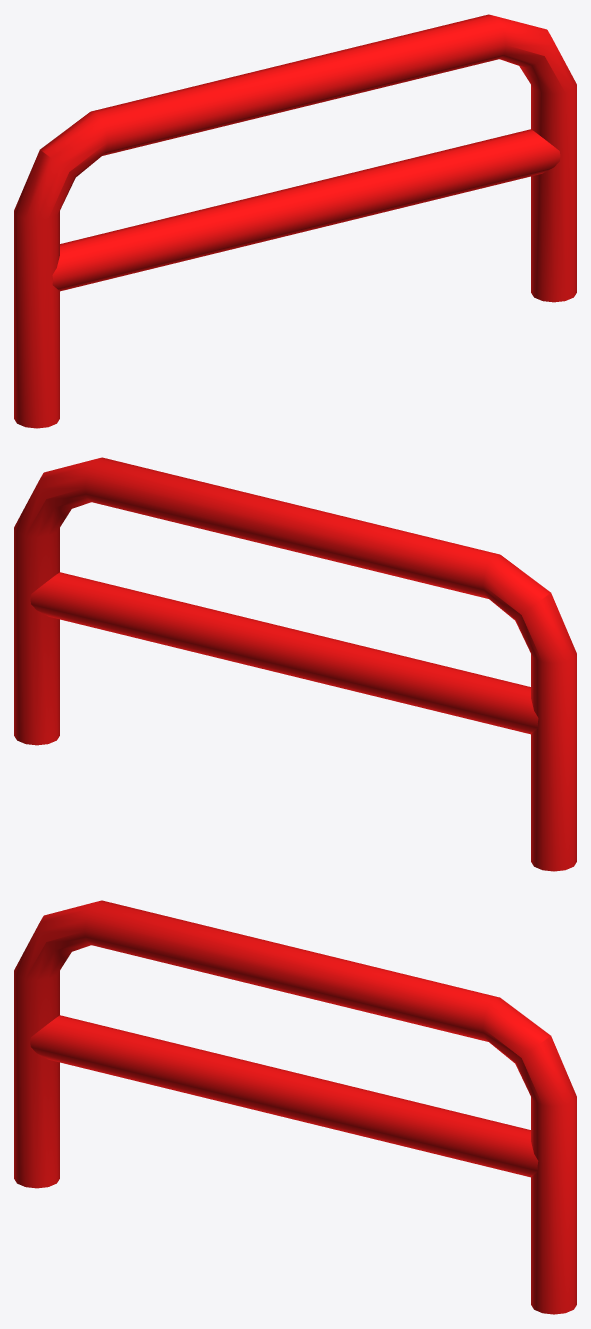
Rendered from Rail1.fbx.
The picture shows the model from 3 angles, top to bottom: view 1: azimuth 30°, elevation 25°; view 2: azimuth 150°, elevation 25°; view 3: azimuth 330°, elevation 25°; orthographic projection.
Parts seen in each view (by area): view 1: Cylinder; view 2: Cylinder; view 3: Cylinder.
Boxes of the visible parts, bbox=[...] form: Cylinder: bbox=[14, 14, 576, 428]; Cylinder: bbox=[14, 457, 576, 871]; Cylinder: bbox=[14, 900, 576, 1314].
Size of the model in its own units: 280 by 140 by 20.
